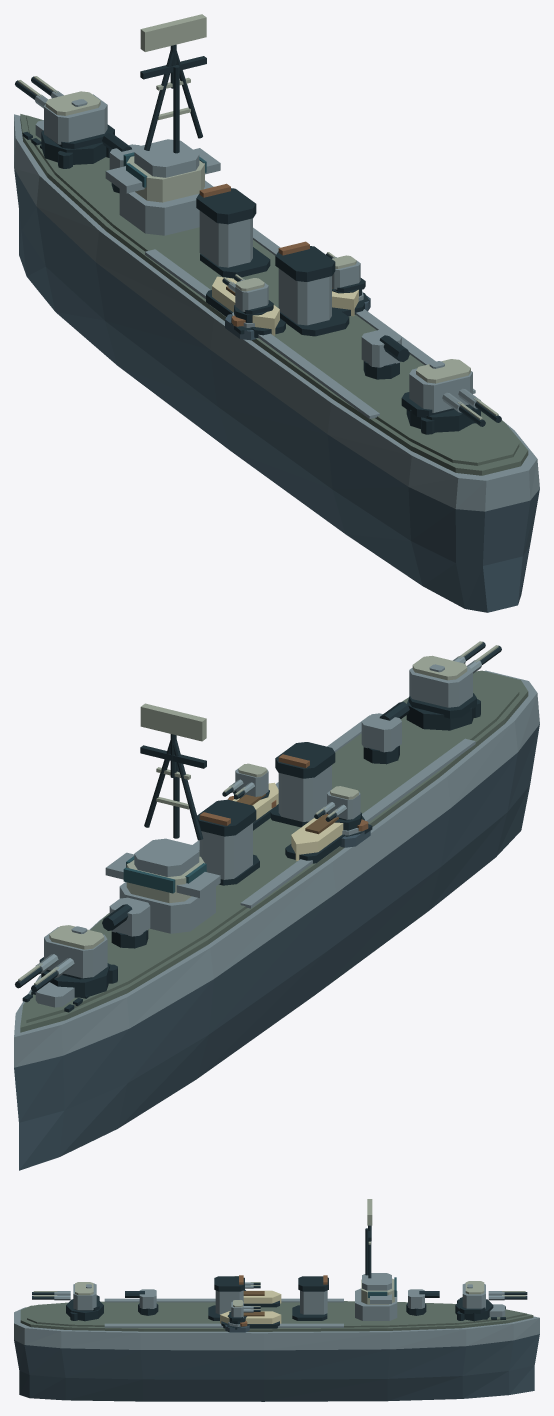
The model's file is historic-carpenter.glb.
3 views of the same model, one above another, from view 1: azimuth 30°, elevation 25°; view 2: azimuth 150°, elevation 25°; view 3: azimuth 270°, elevation 25° (orthographic). The views are drawn at different scales.
Parts seen in each view (by area): view 1: historic-carpenter-historic-carpenter-geometry, historic-carpenter-part_bridge.134-geometry, historic-carpenter-historic_funnel_0.127-geometry, historic-carpenter-historic_funnel_1.072-geometry, historic-carpenter-turret_main_0.103-geometry, historic-carpenter-turret_main_1.096-geometry, historic-carpenter-naval_launcher_1.008-geometry, historic-carpenter-turret_aa_aa-port.136-geometry, historic-carpenter-turret_aa_aa-starboard.132-geometry, historic-carpenter-naval_launcher_0.012-geometry; view 2: historic-carpenter-historic-carpenter-geometry, historic-carpenter-part_bridge.134-geometry, historic-carpenter-turret_main_1.096-geometry, historic-carpenter-turret_main_0.103-geometry, historic-carpenter-historic_funnel_0.127-geometry, historic-carpenter-historic_funnel_1.072-geometry, historic-carpenter-naval_launcher_1.008-geometry, historic-carpenter-naval_launcher_0.012-geometry, historic-carpenter-turret_aa_aa-port.136-geometry, historic-carpenter-turret_aa_aa-starboard.132-geometry; view 3: historic-carpenter-historic-carpenter-geometry, historic-carpenter-part_bridge.134-geometry, historic-carpenter-turret_main_0.103-geometry, historic-carpenter-turret_main_1.096-geometry, historic-carpenter-historic_funnel_0.127-geometry, historic-carpenter-historic_funnel_1.072-geometry, historic-carpenter-naval_launcher_1.008-geometry, historic-carpenter-naval_launcher_0.012-geometry, historic-carpenter-turret_aa_aa-starboard.132-geometry.
Part boxes in pixels (x1,y1,x2,y2): historic-carpenter-historic-carpenter-geometry: (14, 114, 539, 612); historic-carpenter-part_bridge.134-geometry: (105, 14, 220, 235); historic-carpenter-historic_funnel_0.127-geometry: (196, 183, 270, 278); historic-carpenter-historic_funnel_1.072-geometry: (275, 241, 349, 336); historic-carpenter-turret_main_0.103-geometry: (15, 76, 114, 164); historic-carpenter-turret_main_1.096-geometry: (401, 359, 501, 432); historic-carpenter-naval_launcher_1.008-geometry: (361, 328, 409, 379); historic-carpenter-turret_aa_aa-port.136-geometry: (222, 274, 273, 322); historic-carpenter-turret_aa_aa-starboard.132-geometry: (326, 252, 365, 296); historic-carpenter-naval_launcher_0.012-geometry: (102, 133, 140, 193); historic-carpenter-historic-carpenter-geometry: (14, 670, 539, 1170); historic-carpenter-part_bridge.134-geometry: (105, 703, 220, 933); historic-carpenter-turret_main_1.096-geometry: (406, 641, 501, 730); historic-carpenter-turret_main_0.103-geometry: (15, 925, 109, 997); historic-carpenter-historic_funnel_0.127-geometry: (197, 799, 259, 885); historic-carpenter-historic_funnel_1.072-geometry: (270, 742, 335, 827); historic-carpenter-naval_launcher_1.008-geometry: (361, 701, 409, 764); historic-carpenter-naval_launcher_0.012-geometry: (102, 897, 150, 948); historic-carpenter-turret_aa_aa-port.136-geometry: (314, 786, 361, 830); historic-carpenter-turret_aa_aa-starboard.132-geometry: (222, 763, 269, 799); historic-carpenter-historic-carpenter-geometry: (14, 1290, 539, 1401); historic-carpenter-part_bridge.134-geometry: (355, 1199, 397, 1320); historic-carpenter-turret_main_0.103-geometry: (455, 1281, 527, 1321); historic-carpenter-turret_main_1.096-geometry: (32, 1282, 103, 1321); historic-carpenter-historic_funnel_0.127-geometry: (292, 1275, 328, 1320); historic-carpenter-historic_funnel_1.072-geometry: (208, 1275, 244, 1320); historic-carpenter-naval_launcher_1.008-geometry: (125, 1289, 158, 1315); historic-carpenter-naval_launcher_0.012-geometry: (406, 1289, 439, 1315); historic-carpenter-turret_aa_aa-starboard.132-geometry: (227, 1300, 260, 1324).
Size of the model in its own units: 0.6388 by 1.58 by 4.11.
